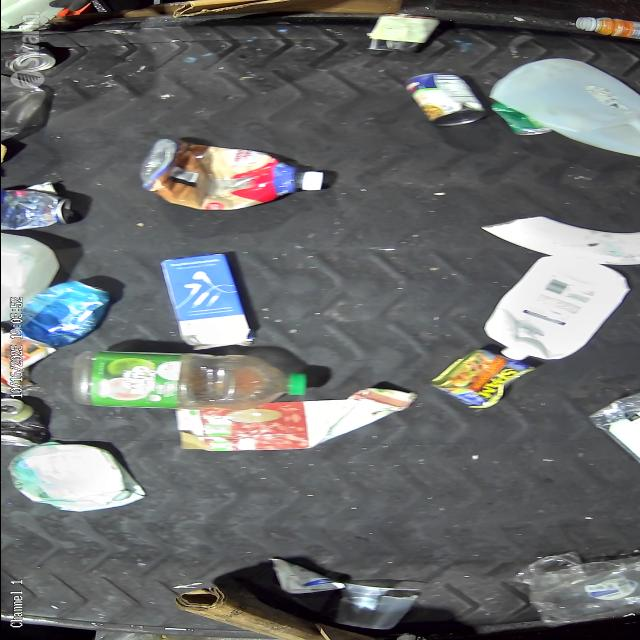can: (428, 348, 538, 410), (15, 279, 110, 349), (402, 72, 487, 126), (0, 188, 72, 230), (0, 398, 47, 446), (490, 102, 550, 136), (3, 50, 56, 74)
milk_jug: (482, 252, 630, 360), (489, 57, 640, 156), (10, 440, 144, 513), (0, 232, 59, 321)
non_white_jug: (159, 253, 255, 348)
plastic_bottle: (70, 350, 309, 410)
